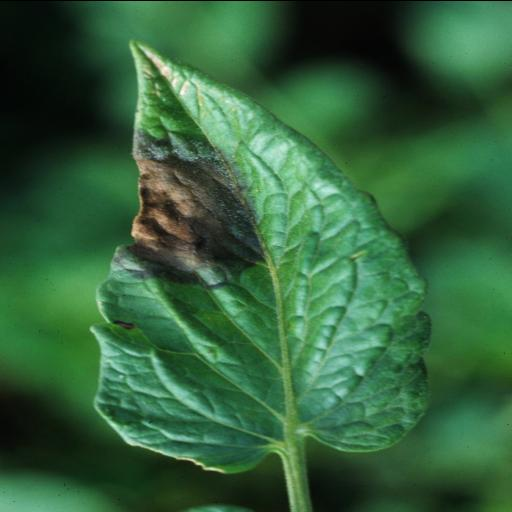Late Blight: (90, 37, 434, 473)
